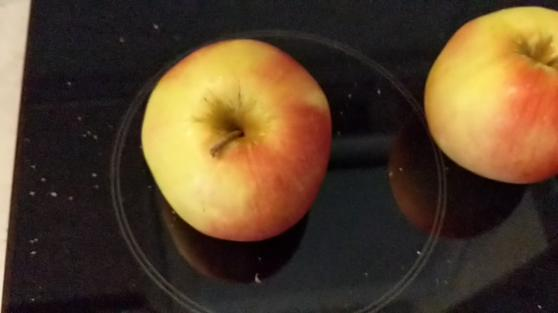apple: (138, 33, 338, 242), (418, 5, 558, 191)
